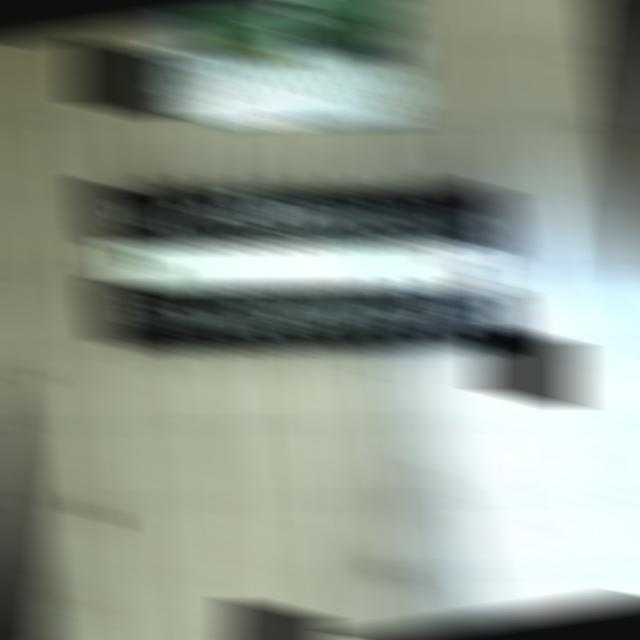Flathead_Block: (85, 182, 520, 350)
Terminal_1: (187, 1, 292, 59), (293, 0, 395, 43)
